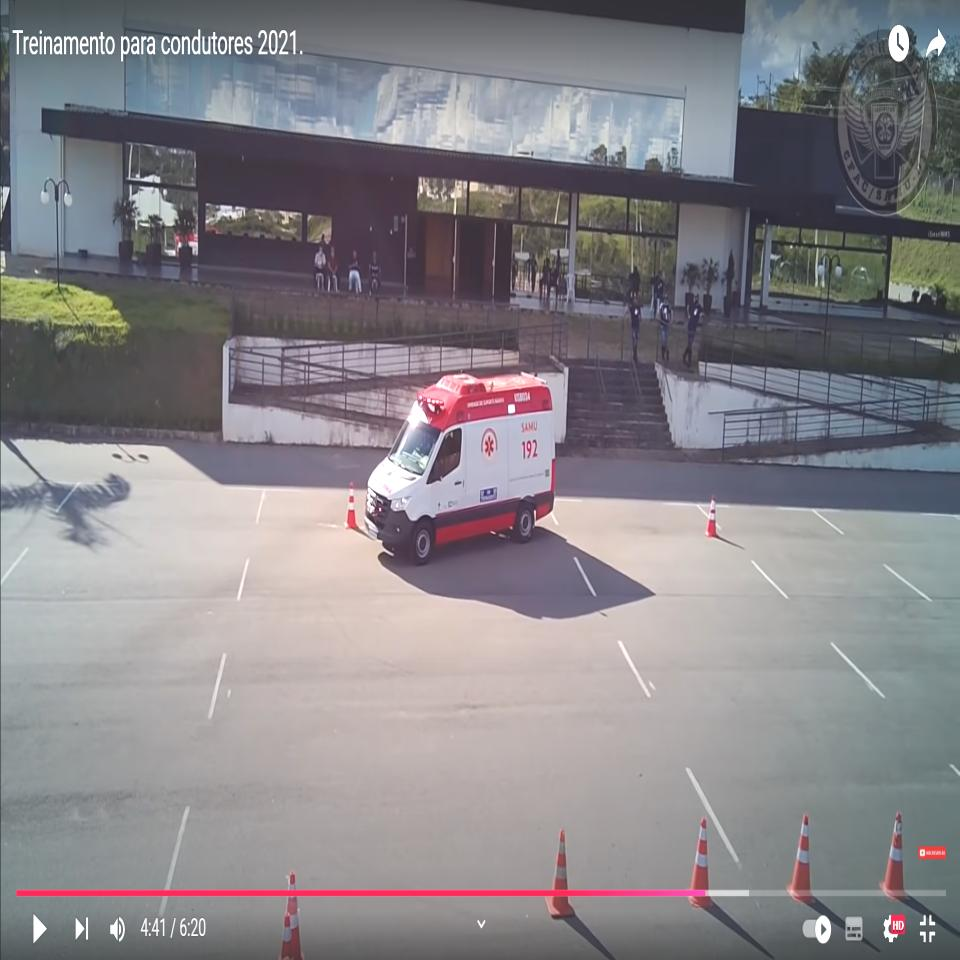ambulancia: (364, 363, 560, 564)
